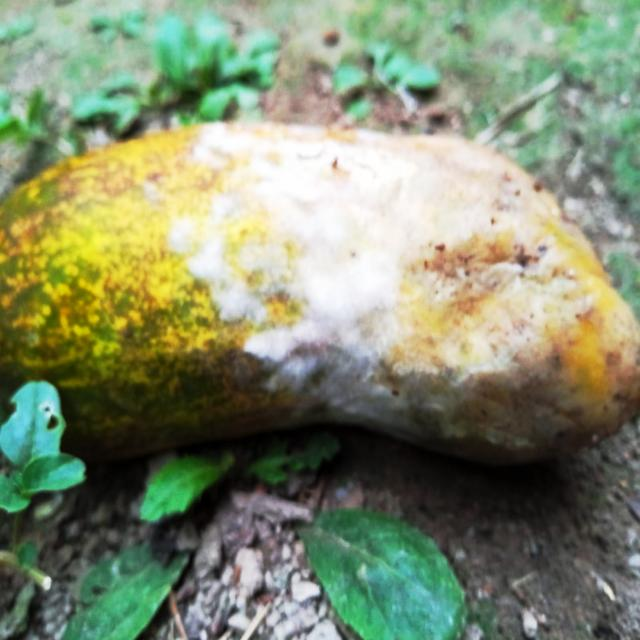Pythium-Fruit-Rot: (182, 119, 581, 461)
